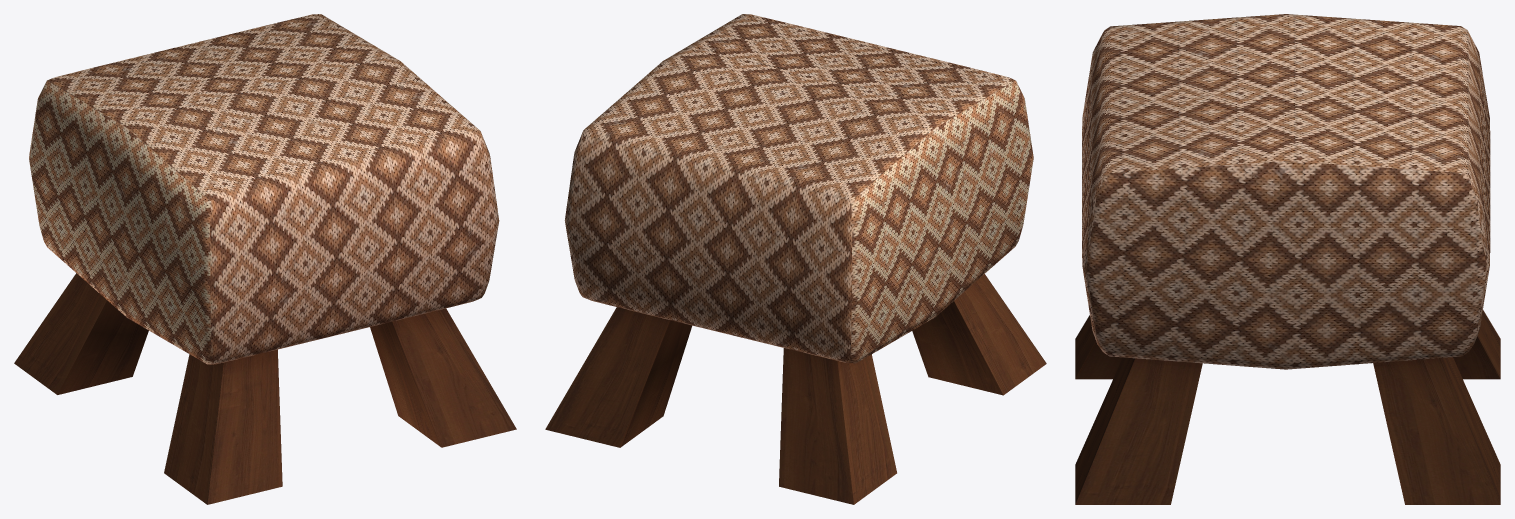
Rendered from montana_ottoman.fbx.
3 renders of one model, left to right at view 1: azimuth 30°, elevation 25°; view 2: azimuth 150°, elevation 25°; view 3: azimuth 270°, elevation 25°, orthographic. The views are drawn at different scales.
Parts seen in each view (by area): view 1: Montana Ottoman; view 2: Montana Ottoman; view 3: Montana Ottoman.
Boxes of the visible parts, x1,y1,x2,y2 form: Montana Ottoman: (14, 14, 516, 504); Montana Ottoman: (545, 14, 1046, 504); Montana Ottoman: (1075, 14, 1500, 504).
Size of the model in its own units: 0.6114 by 0.5779 by 0.6616.
Materials: 1 (1 with a texture image).
